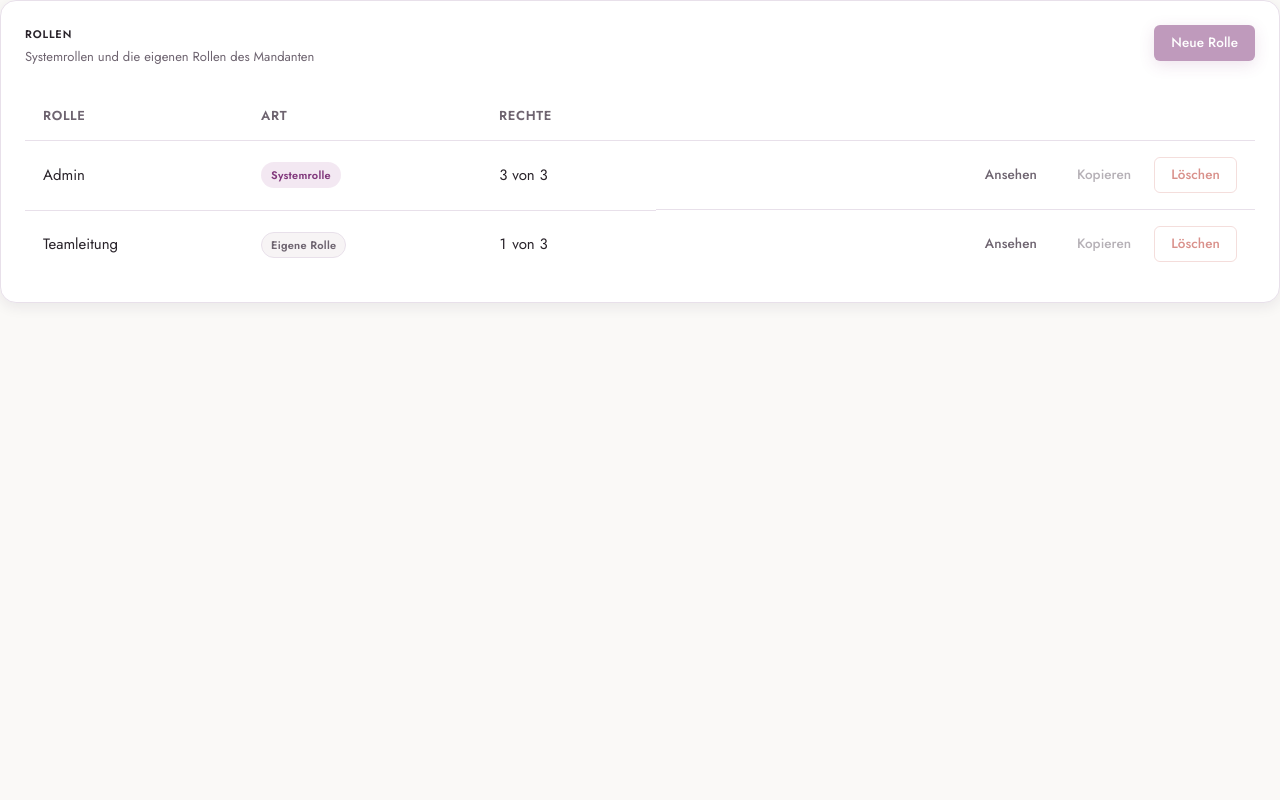
Scenario: RolesTab (Issue #83) › without role:manage every write control is present but disabled
expect the text "Teamleitung" is shown: met, box [25,210,243,278]
expect the button "Neue Rolle" is disabled: met, box [1154,25,1255,61]
Click the button "Ansehen" in the row of "Teamleitung": (1011, 244) [968,226,1054,262]
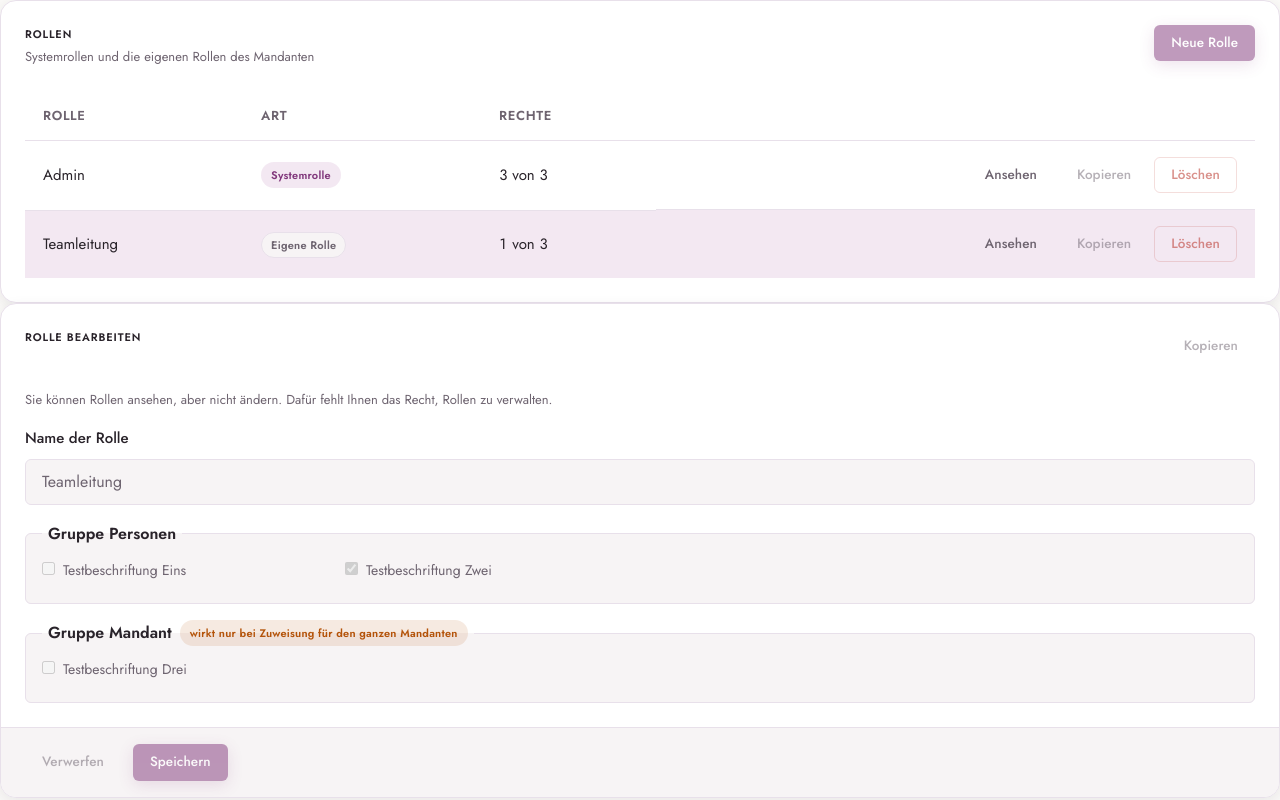
expect the field labelled "Name der Rolle" is disabled: met, box [25,459,1255,505]
expect the text "Sie können Rollen ansehen, aber nicht ändern" is shown: met, box [25,390,552,409]
